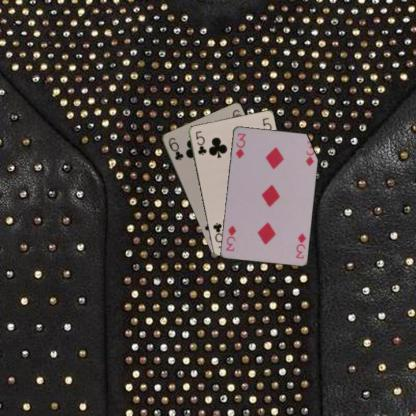3d: (293, 230, 307, 260), (233, 130, 247, 159)
5c: (193, 128, 207, 156)
6c: (166, 134, 184, 162)
